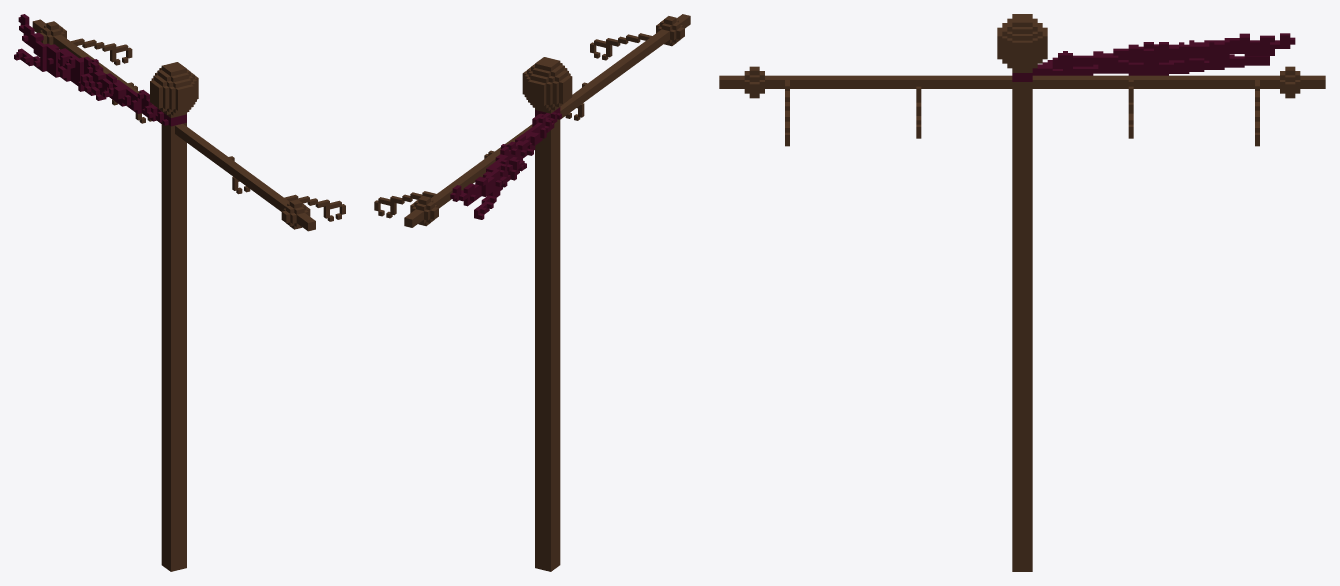
The model's file is enemyship-3.obj.
The picture shows the model from 3 angles, left to right: view 1: azimuth 30°, elevation 25°; view 2: azimuth 150°, elevation 25°; view 3: azimuth 270°, elevation 25°; orthographic projection. The views are drawn at different scales.
Bounding box in the file's own units: 2.8 × 12 × 12.
1 material, 1 textured.
